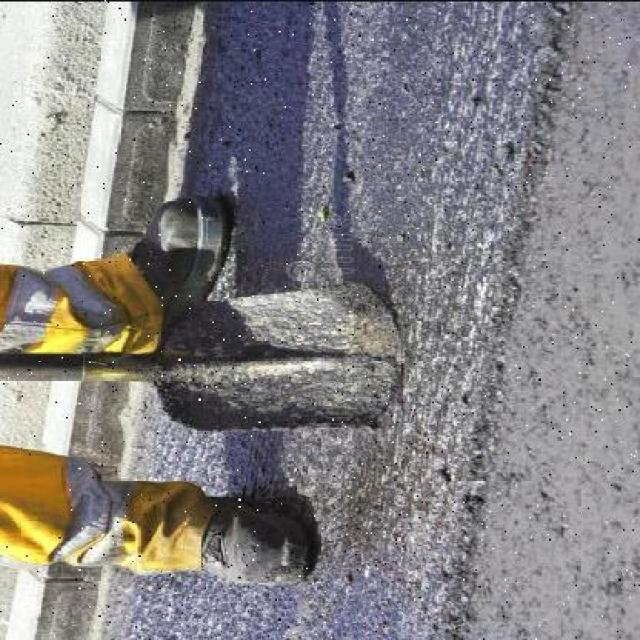shoes: (119, 190, 232, 318), (184, 492, 307, 583)
